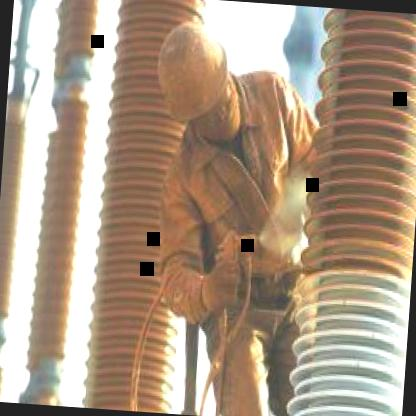helmet: (151, 20, 247, 140)
